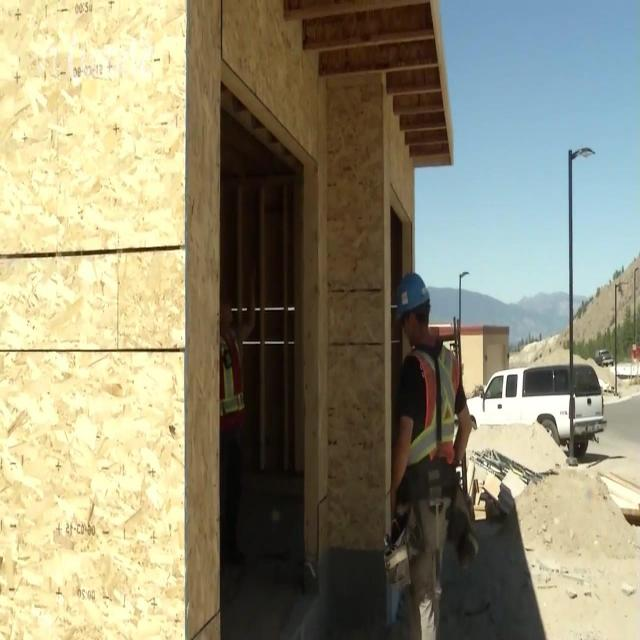Reflective-Jacket: (387, 337, 475, 531), (215, 327, 255, 449)
Safety-Helmet: (386, 263, 436, 328)
